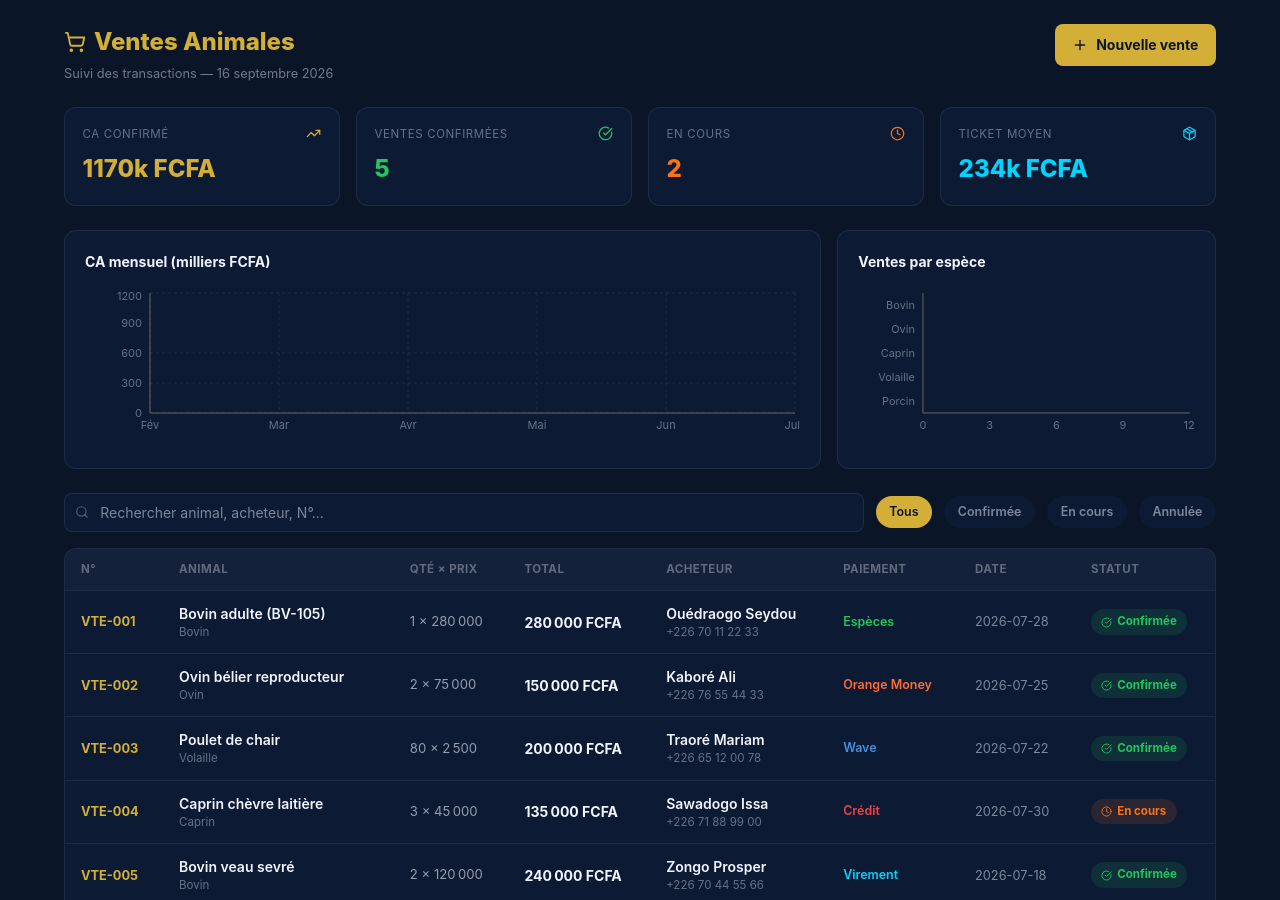
Test: VentesPage › le filtre En cours n'affiche que les ventes en cours
This screenshot has width=1280, height=900.
What coordinates should you click on to do the following:
click the button "En cours"
I would click on:
 (1087, 512)
Its box is left=1047, top=496, right=1127, bottom=528.
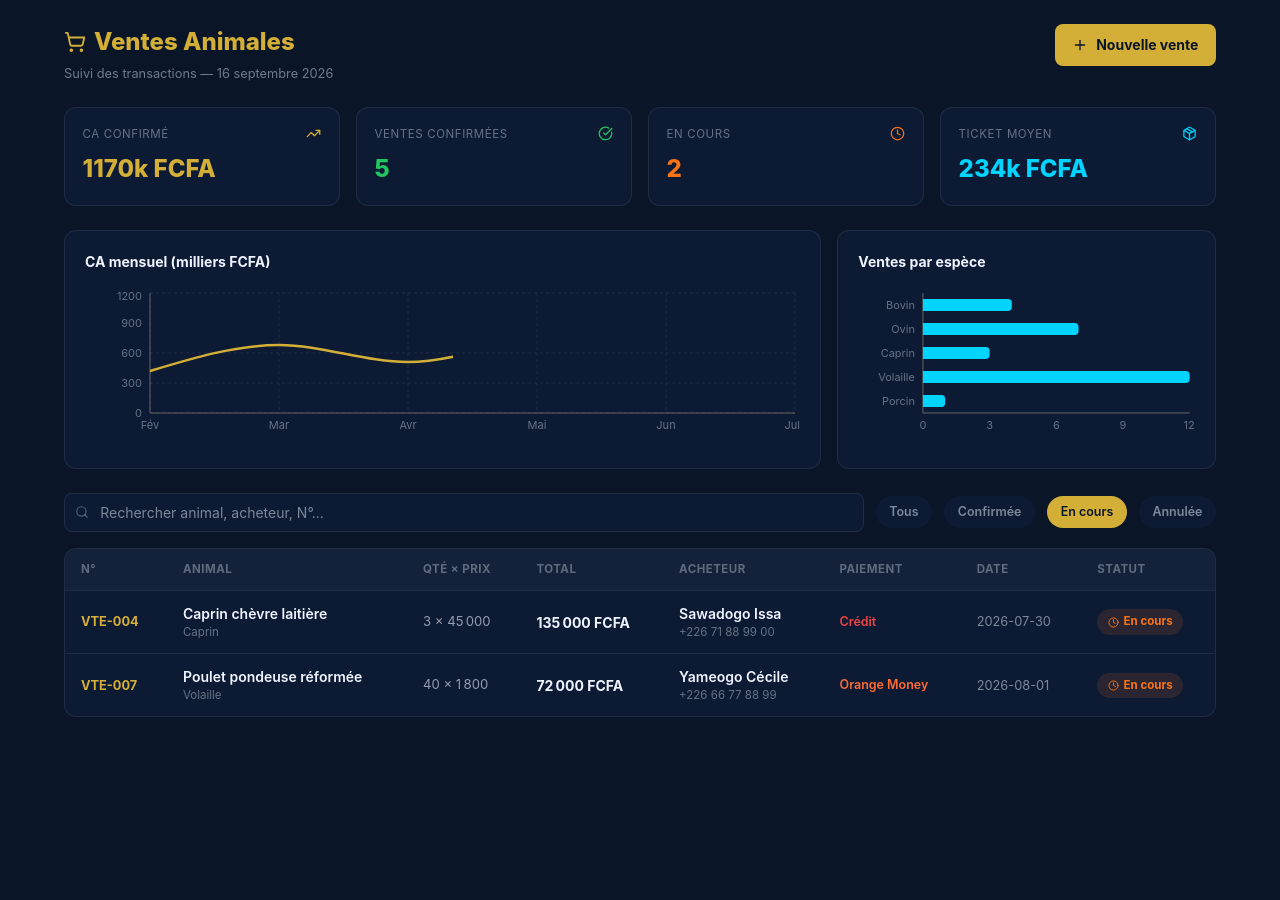
Expected: the text "VTE-004" is shown, left=65, top=590, right=167, bottom=654
Result: the text "VTE-001" is gone
